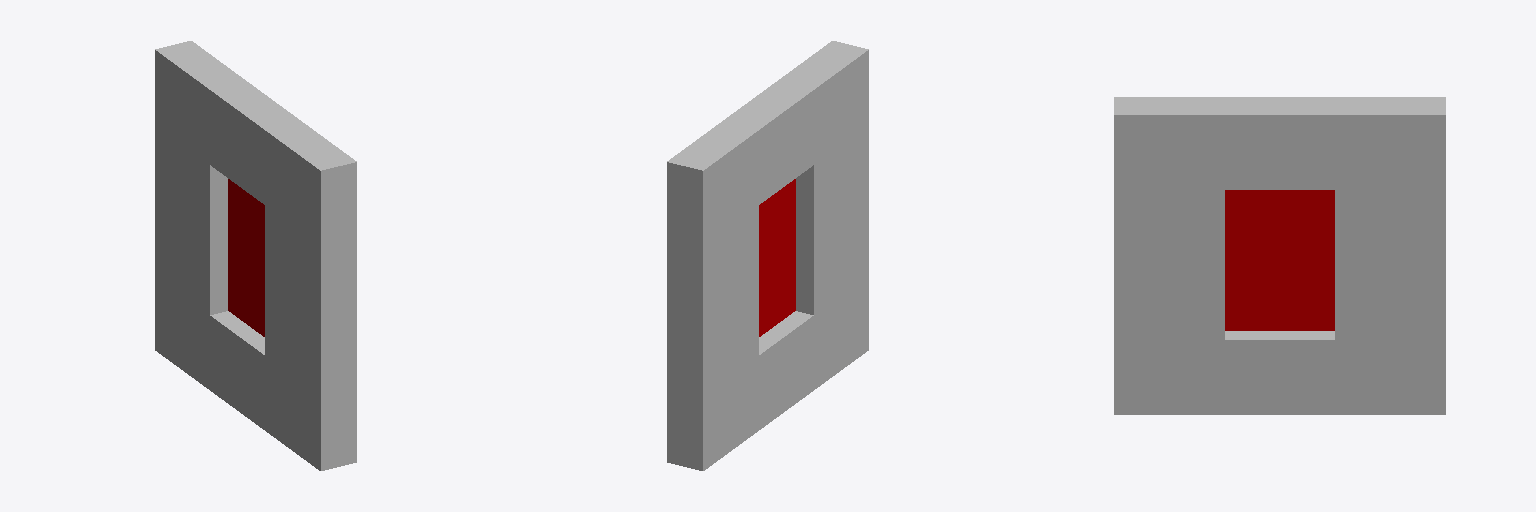
The model's file is wall_window.obj.
3 views of the same model, side by side, from view 1: azimuth 30°, elevation 25°; view 2: azimuth 150°, elevation 25°; view 3: azimuth 270°, elevation 25° (orthographic).
Visible parts, largest first — view 1: WallWindow_Cube.002; view 2: WallWindow_Cube.002; view 3: WallWindow_Cube.002.
Boxes of the visible parts, x1,y1,x2,y2 form: WallWindow_Cube.002: [155, 41, 356, 470]; WallWindow_Cube.002: [667, 41, 868, 470]; WallWindow_Cube.002: [1114, 97, 1445, 414].
Size of the model in its own units: 0.2553 by 2 by 2.